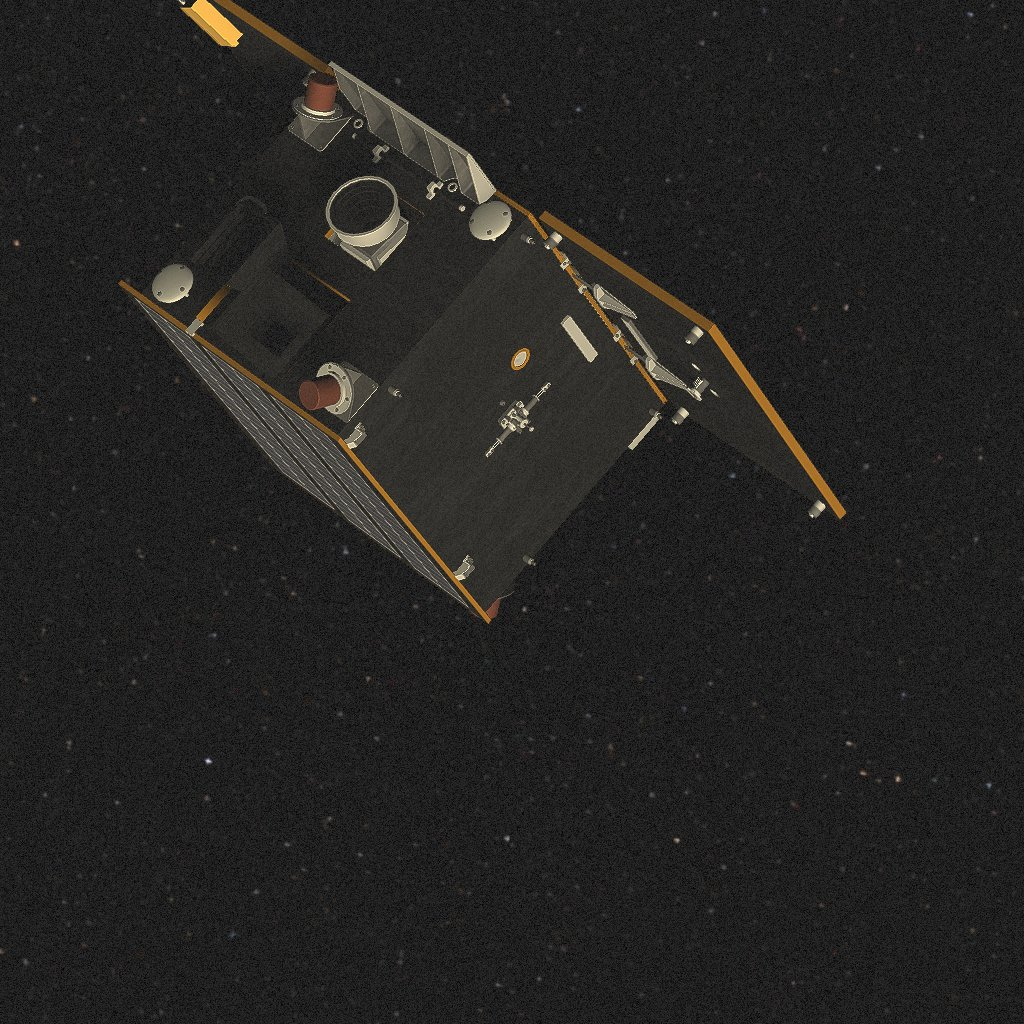proba_2: (118, 0, 846, 624)
